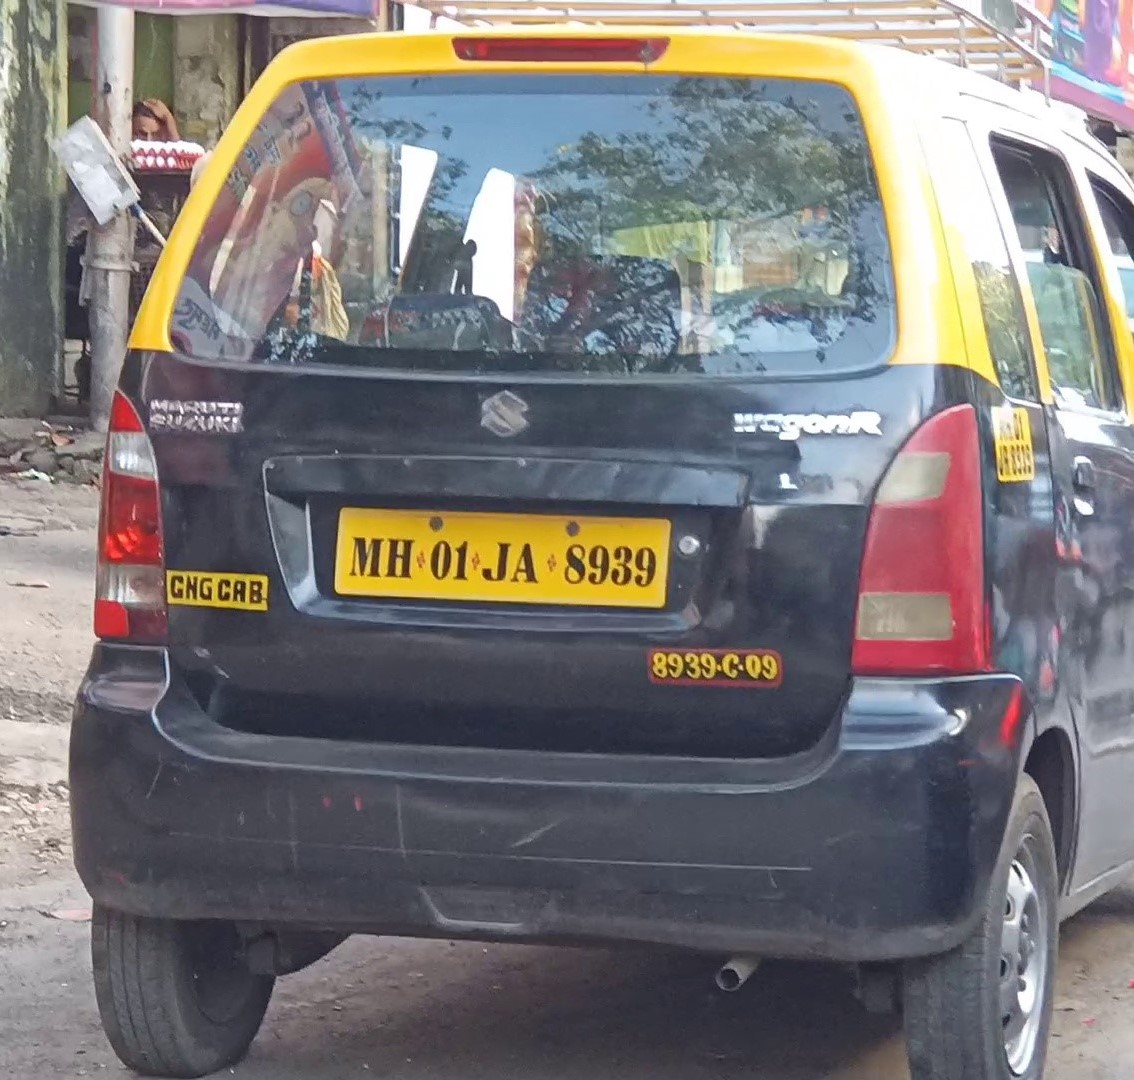MH01JA8939: (333, 504, 668, 609)
